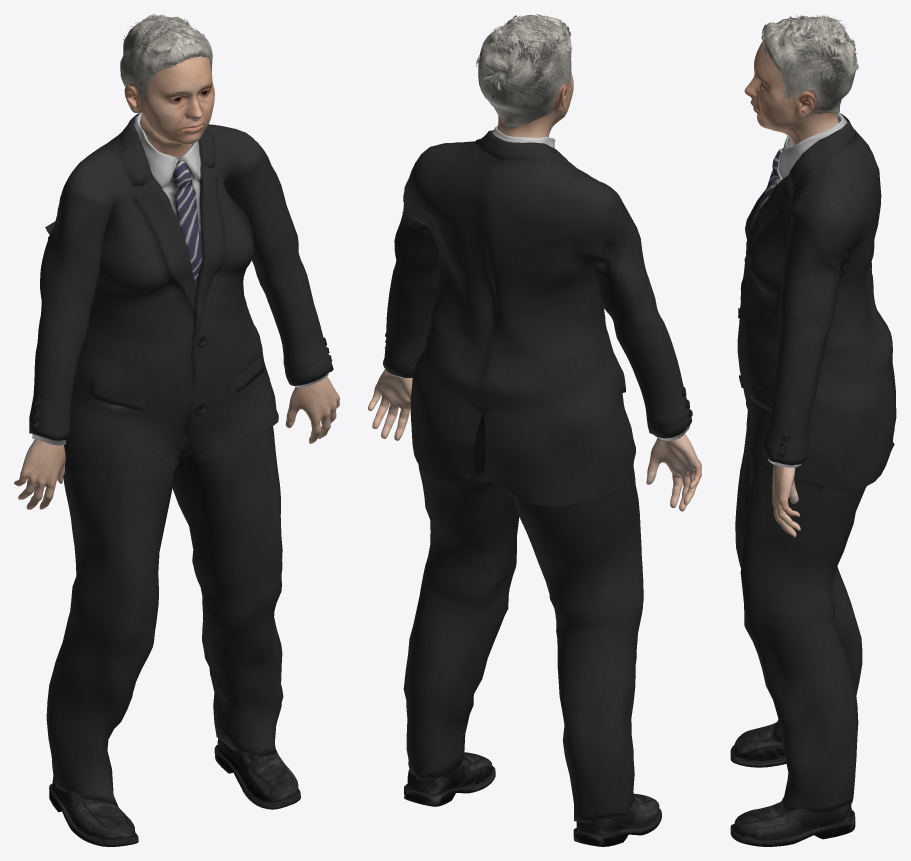
The model's file is Owner.obj.
The picture shows the model from 3 angles, left to right: view 1: azimuth 30°, elevation 25°; view 2: azimuth 150°, elevation 25°; view 3: azimuth 270°, elevation 25°; orthographic projection. The views are drawn at different scales.
Visible parts, largest first — view 1: mesh_62_0, mesh_60_0, mesh_65_0, mesh_66_0; view 2: mesh_62_0, mesh_66_0, mesh_60_0, mesh_65_0; view 3: mesh_62_0, mesh_66_0, mesh_65_0, mesh_60_0.
Boxes of the visible parts, left/top/right/bottom form: mesh_62_0: left=29, top=112, right=333, bottom=806; mesh_60_0: left=14, top=56, right=339, bottom=509; mesh_65_0: left=49, top=738, right=300, bottom=846; mesh_66_0: left=120, top=14, right=212, bottom=98; mesh_62_0: left=383, top=126, right=692, bottom=823; mesh_66_0: left=476, top=14, right=571, bottom=128; mesh_60_0: left=368, top=60, right=701, bottom=511; mesh_65_0: left=404, top=752, right=661, bottom=846; mesh_62_0: left=735, top=113, right=896, bottom=812; mesh_66_0: left=761, top=14, right=858, bottom=114; mesh_65_0: left=730, top=722, right=855, bottom=846; mesh_60_0: left=744, top=40, right=838, bottom=537.
Bounding box in the file's own units: 0.7171 × 1.67 × 0.3227.
Materials: 10 (9 with a texture image).
